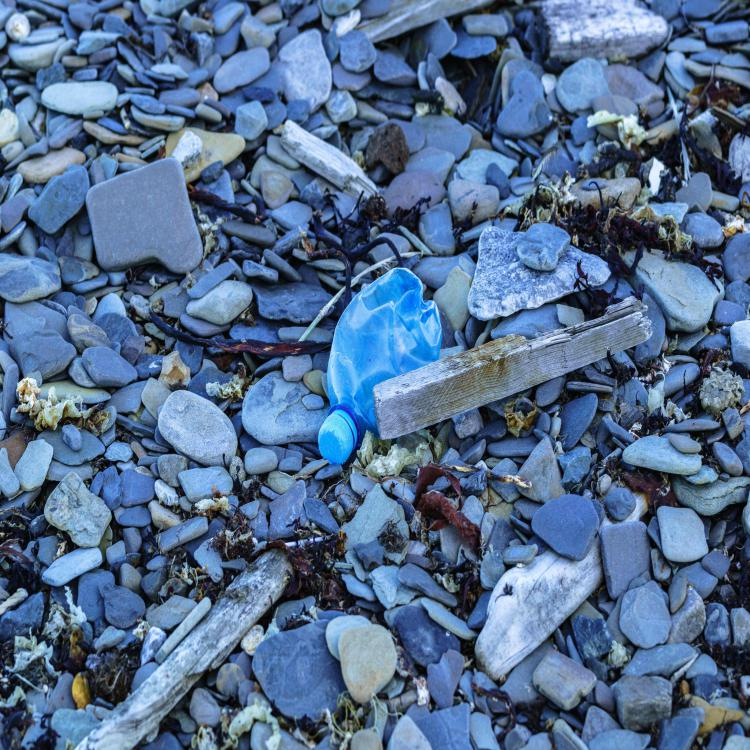Clear plastic bottle: (318, 268, 443, 466)
Plastic bottle cap: (318, 415, 354, 466)
Plastic straw: (297, 251, 418, 341)
